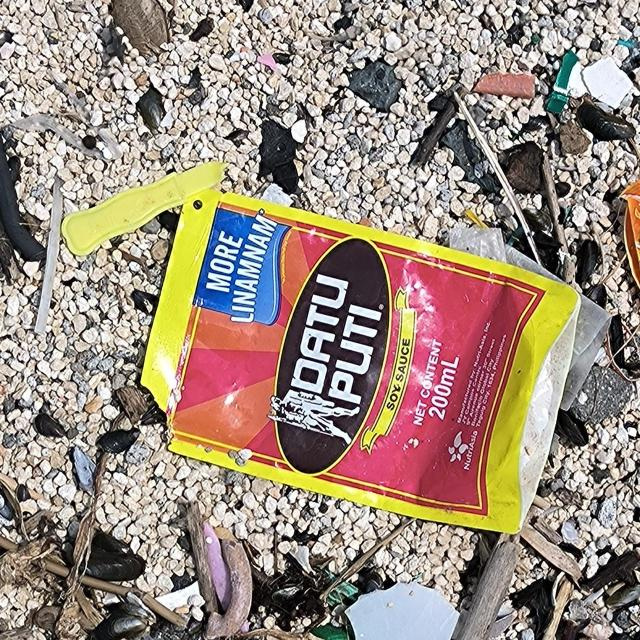plastic_waste: (138, 188, 584, 536)
